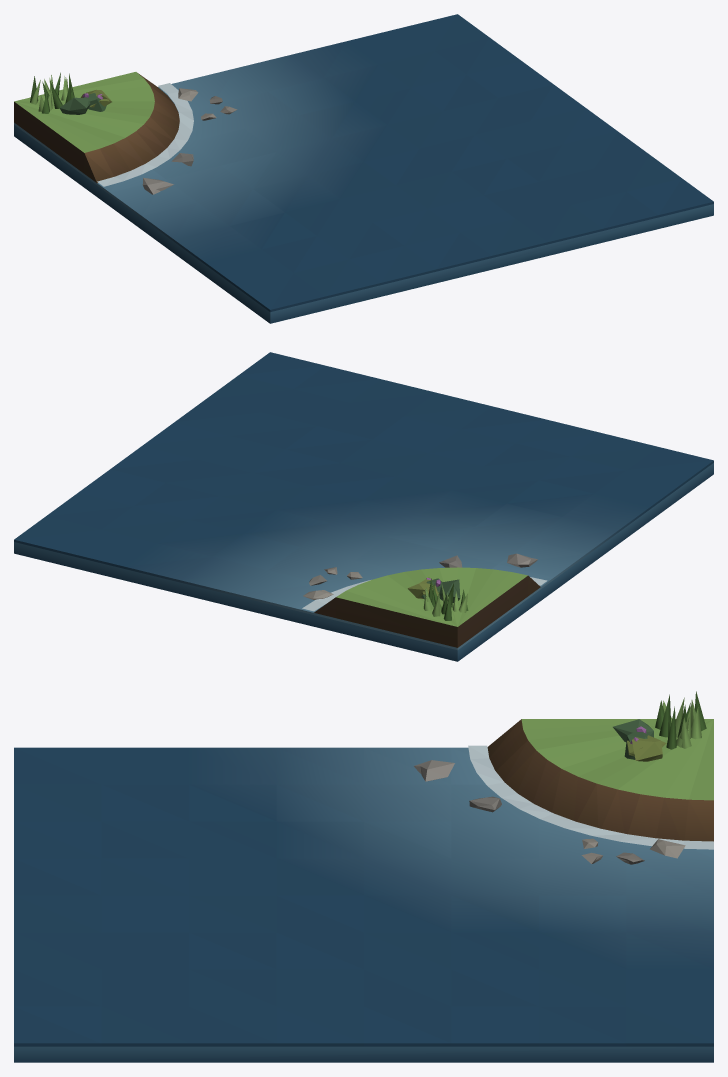
Rendered from shore-corner-out-fjord.glb.
3 views of the same model, one above another, from view 1: azimuth 30°, elevation 25°; view 2: azimuth 150°, elevation 25°; view 3: azimuth 270°, elevation 25° (orthographic). The views are drawn at different scales.
Parts seen in each view (by area): view 1: shore_corner_out_fjord; view 2: shore_corner_out_fjord; view 3: shore_corner_out_fjord.
Boxes of the visible parts, box(x1,y1,x2,y2) form: shore_corner_out_fjord: box(14, 14, 713, 323); shore_corner_out_fjord: box(14, 352, 713, 661); shore_corner_out_fjord: box(14, 691, 713, 1062).
Bounding box in the file's own units: 4 × 0.5537 × 4.
